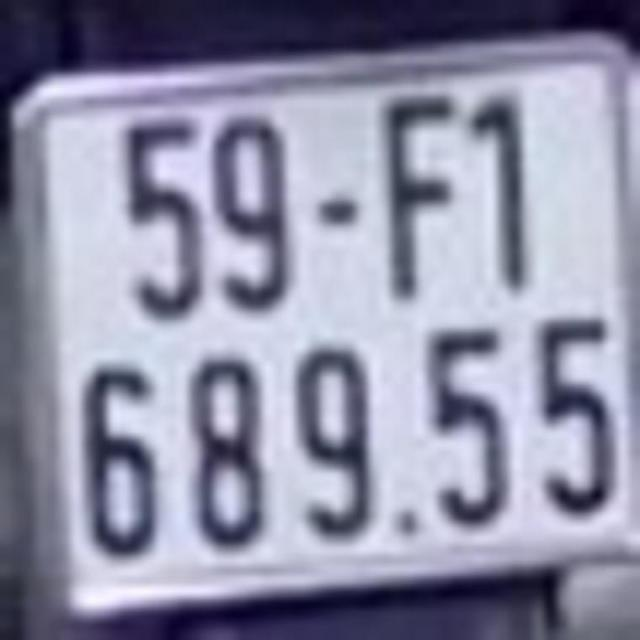1: (464, 84, 531, 290)
5: (418, 322, 508, 537), (122, 117, 207, 320), (534, 312, 608, 521)
6: (88, 369, 156, 554)
8: (196, 360, 262, 548)
9: (213, 116, 293, 311), (296, 342, 371, 538)
F: (382, 100, 453, 300)
